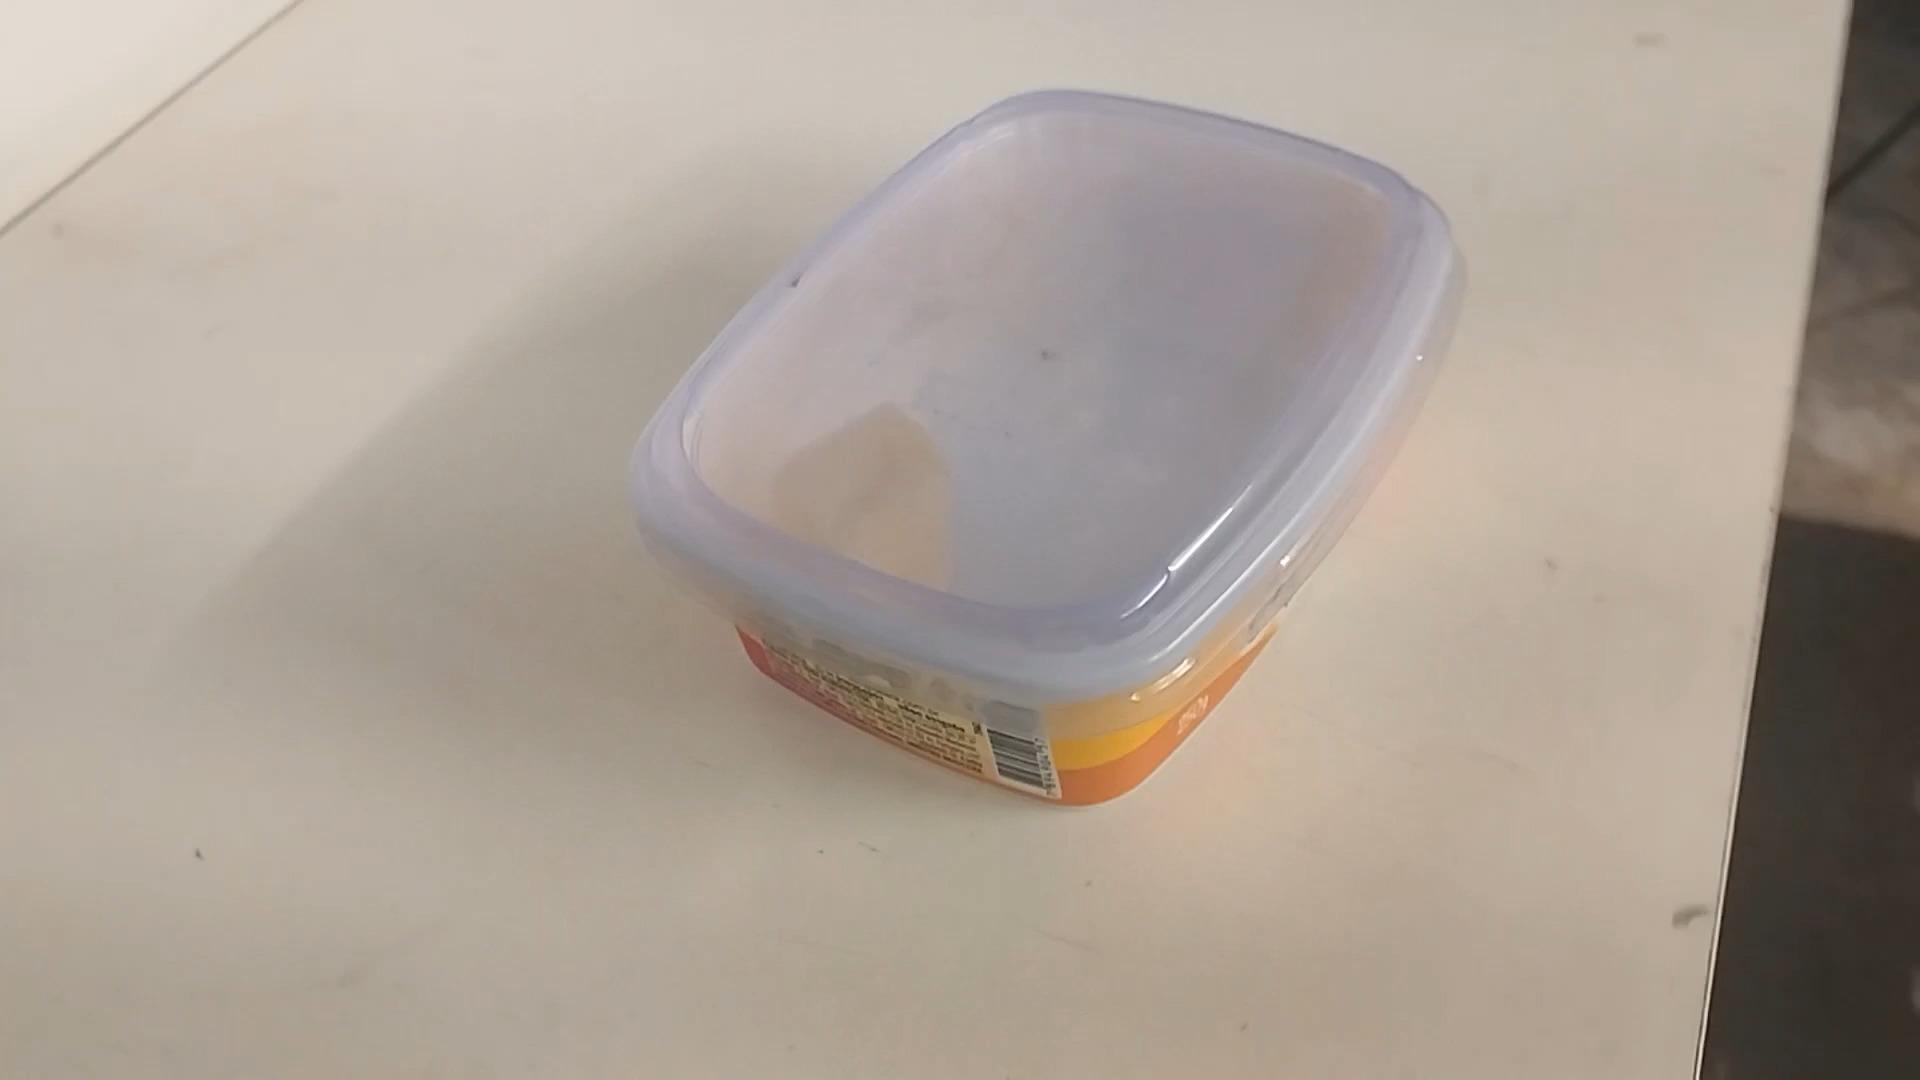butter: (618, 87, 1468, 811)
